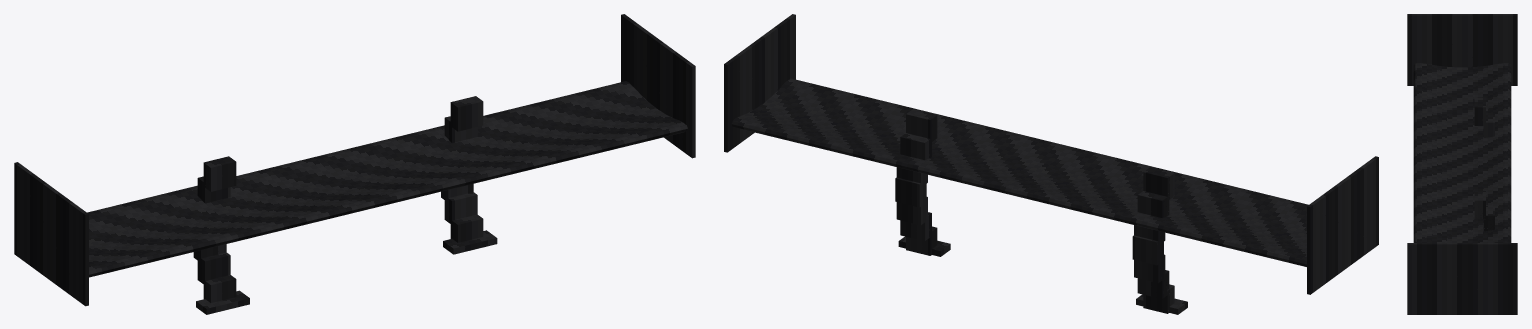
The model's file is wing_swan.obj.
3 renders of one model, left to right at view 1: azimuth 30°, elevation 25°; view 2: azimuth 150°, elevation 25°; view 3: azimuth 270°, elevation 25°, orthographic. The views are drawn at different scales.
Bounding box in the file's own units: 1.68 × 0.44 × 0.34.
1 material, 1 textured.
